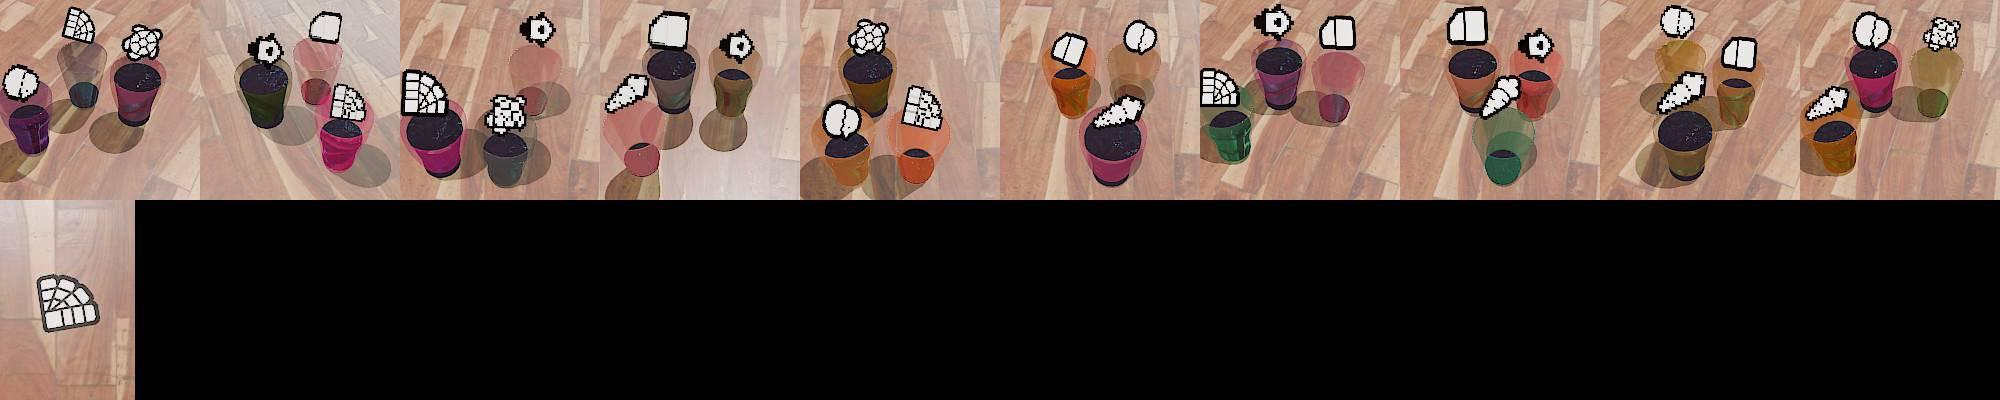icon: (34, 272, 99, 332), (1655, 69, 1708, 116), (402, 68, 449, 116), (484, 91, 529, 139), (902, 83, 944, 131), (1477, 74, 1521, 119), (820, 97, 865, 141), (604, 72, 651, 114), (1090, 93, 1146, 128), (647, 10, 693, 50), (1200, 66, 1240, 110), (1803, 83, 1849, 121), (1447, 6, 1489, 46), (847, 17, 889, 56), (1253, 3, 1295, 42), (329, 83, 368, 124), (1851, 11, 1893, 49), (1, 64, 43, 101), (121, 24, 162, 61), (1720, 35, 1758, 73), (1050, 31, 1089, 68), (1922, 16, 1959, 52), (248, 32, 285, 68), (1318, 15, 1356, 50), (61, 6, 96, 44), (1516, 27, 1554, 62), (519, 11, 555, 47), (1122, 18, 1157, 54), (1660, 5, 1696, 39), (720, 29, 757, 62), (308, 10, 342, 45)
